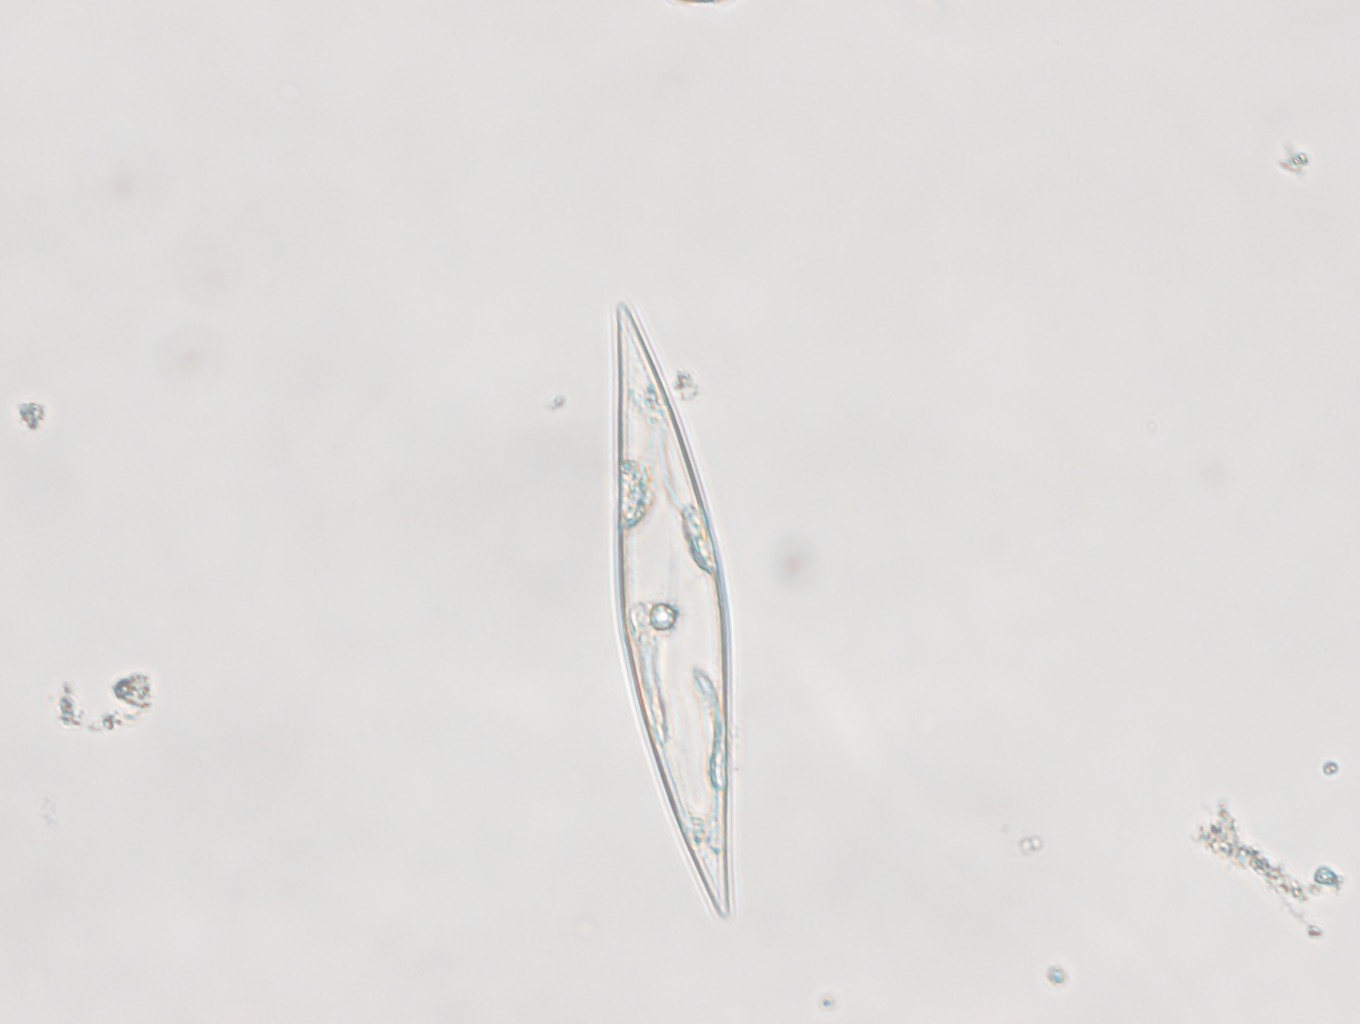pleurosigma pelagicum: (612, 300, 730, 916)
